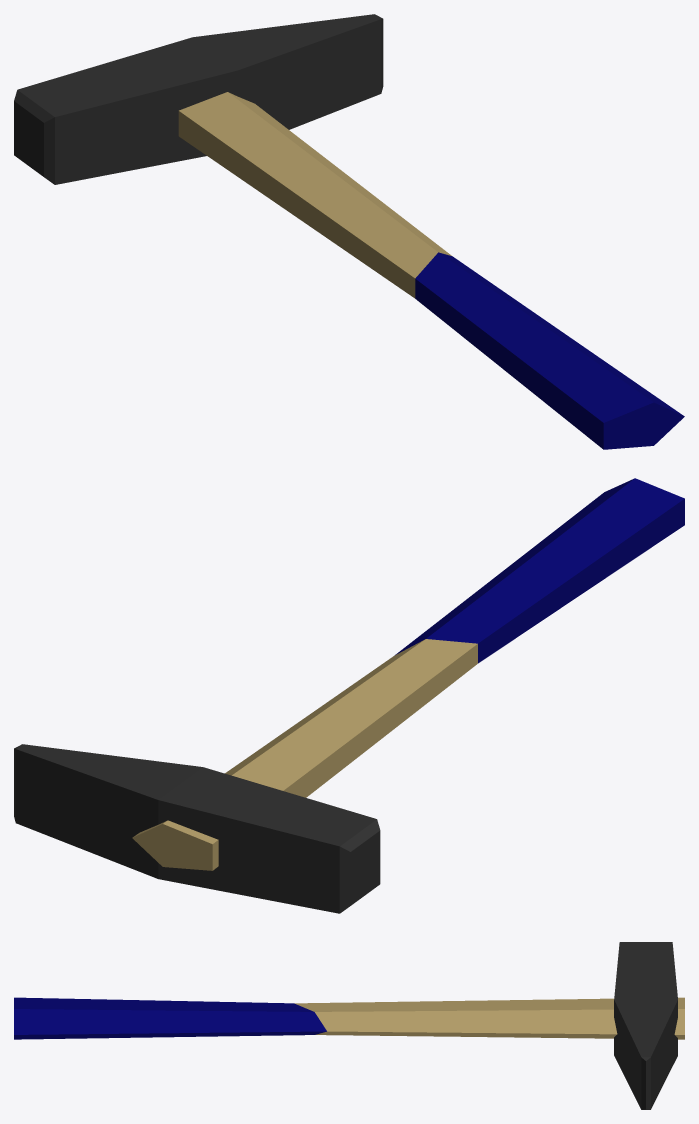
File: Hammer.fbx
3 views of the same model, one above another, from view 1: azimuth 30°, elevation 25°; view 2: azimuth 150°, elevation 25°; view 3: azimuth 270°, elevation 25° (orthographic). The views are drawn at different scales.
Parts seen in each view (by area): view 1: HammerHandle, HammerHead; view 2: HammerHead, HammerHandle; view 3: HammerHandle, HammerHead.
Part boxes in pixels (x1,y1,x2,y2): HammerHandle: (178,92,684,449); HammerHead: (14,14,383,184); HammerHead: (14,744,380,913); HammerHandle: (132,478,684,870); HammerHandle: (14,997,684,1039); HammerHead: (614,942,677,1109).
Bounding box in the file's own units: 4.96 × 1.07 × 11.54.
